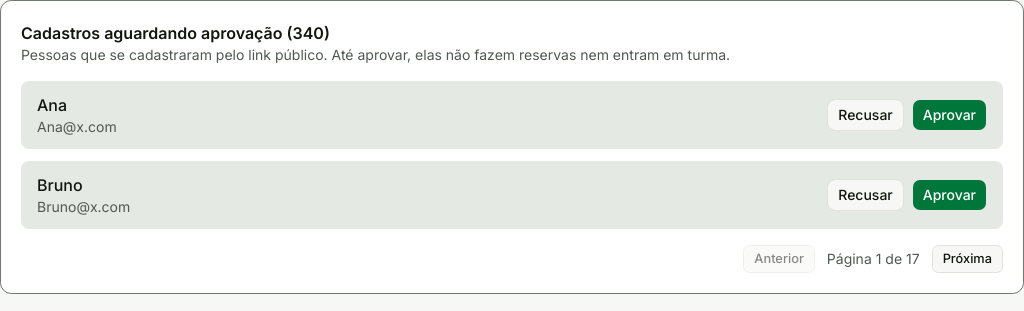
it: CadastrosPendentes › a contagem acompanha a decisão
Expected: the heading "Cadastros aguardando aprovação (340)" is shown, [21, 23, 330, 43]
Click the button "Aprovar" in the row of "Ana@x.com" at (949, 115), box [912, 99, 987, 131]
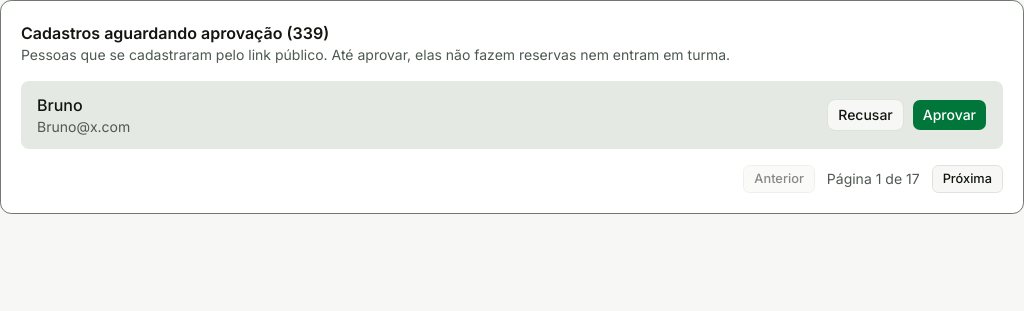
Now the heading "Cadastros aguardando aprovação (339)" is shown, box [21, 23, 329, 43]
